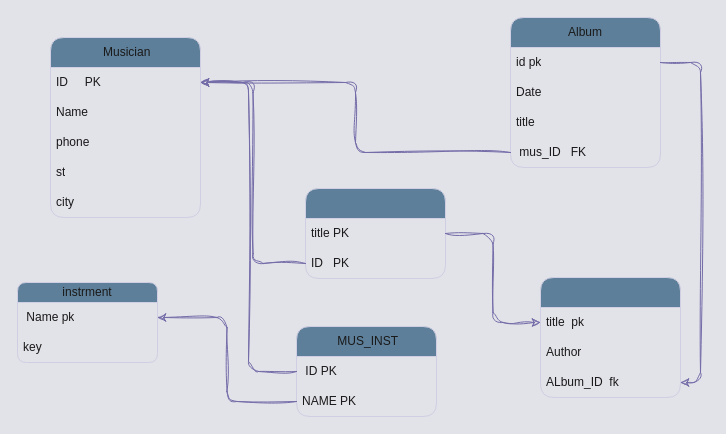
The diagram is 726 pixels wide and 434 high, and some of its shapes have lost their labels. Here are the shapes that lost their labels. From the top down, the box of each, then its label:
(304, 188, 446, 278): Musc_Song
(540, 276, 680, 398): song
